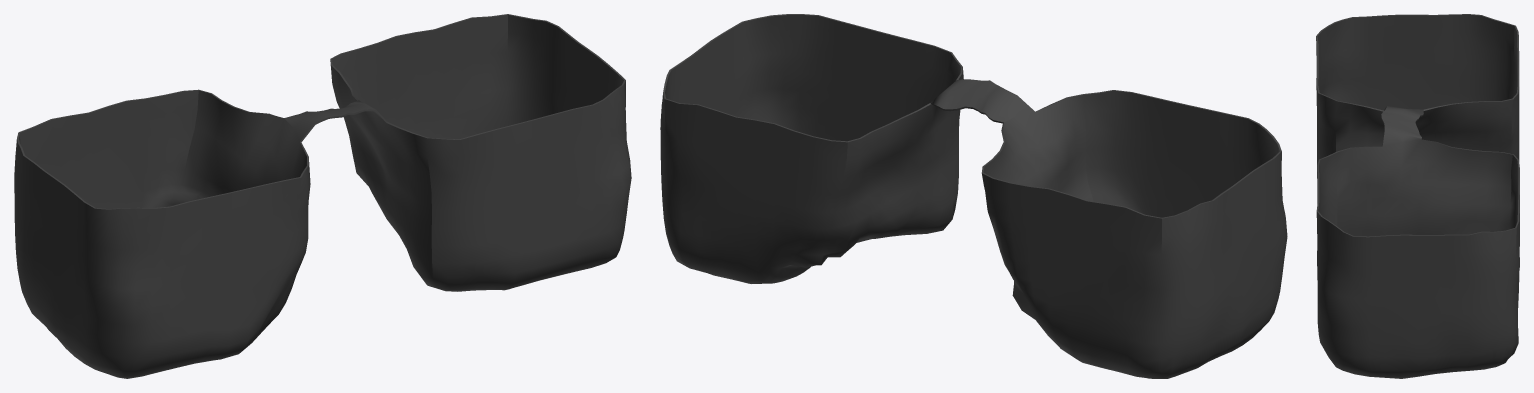
File: tempat barang_vespa.fbx
3 renders of one model, left to right at view 1: azimuth 30°, elevation 25°; view 2: azimuth 150°, elevation 25°; view 3: azimuth 270°, elevation 25°, orthographic. The views are drawn at different scales.
Visible parts, largest first — view 1: Cube.002; view 2: Cube.002; view 3: Cube.002.
Part boxes in pixels (<box>): Cube.002: <box>14,14,631,378</box>; Cube.002: <box>660,14,1287,378</box>; Cube.002: <box>1316,14,1519,378</box>.
Bounding box in the file's own units: 95.89 × 34.25 × 37.56.
